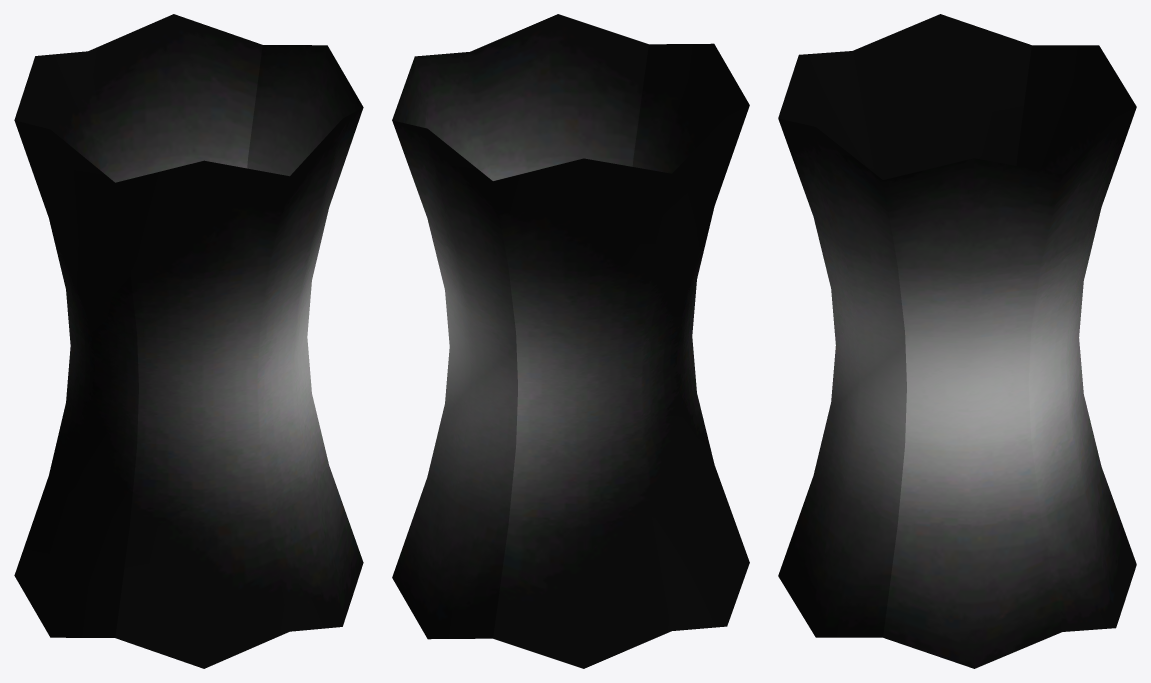
Rendered from vfx_kurp_0445.dae.
The picture shows the model from 3 angles, left to right: view 1: azimuth 30°, elevation 25°; view 2: azimuth 150°, elevation 25°; view 3: azimuth 270°, elevation 25°; orthographic projection.
Parts seen in each view (by area): view 1: vfx_kurp_0445; view 2: vfx_kurp_0445; view 3: vfx_kurp_0445.
Boxes of the visible parts, <box> form: vfx_kurp_0445: <box>14,14,363,668</box>; vfx_kurp_0445: <box>392,14,749,668</box>; vfx_kurp_0445: <box>778,14,1136,668</box>.
Bounding box in the file's own units: 5.67 × 5.96 × 9.37.
1 material, 1 textured.
